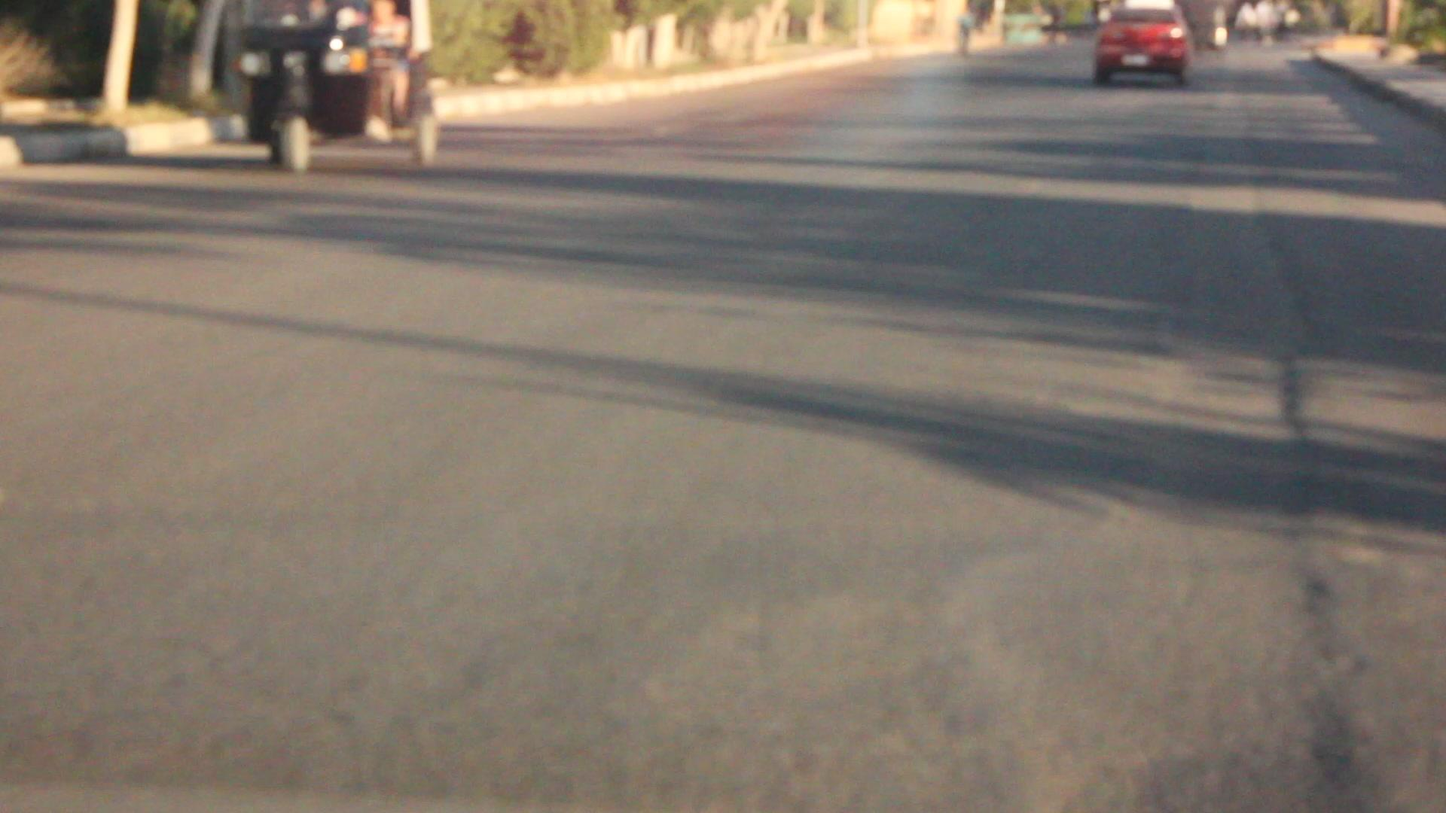Pothole: (956, 216, 1380, 800)
